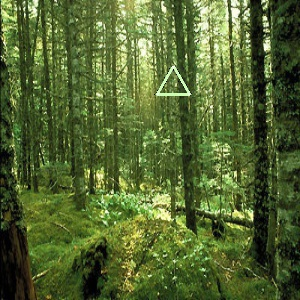triangle: (153, 63, 193, 99)
